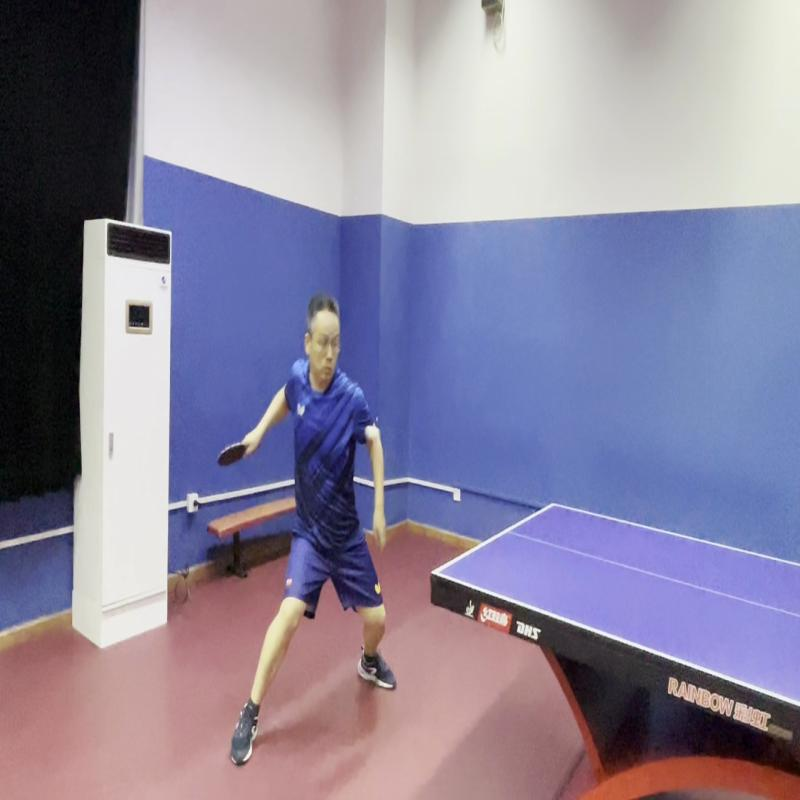bats: (214, 430, 250, 482)
